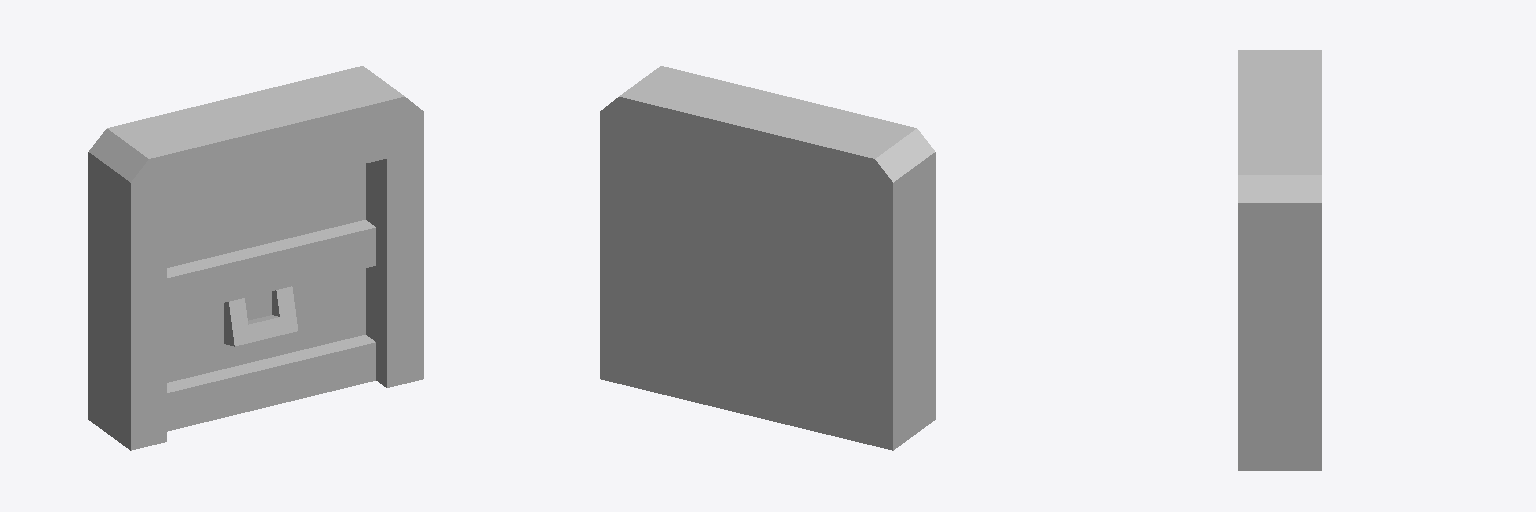
File: gate.obj
The picture shows the model from 3 angles: view 1: azimuth 30°, elevation 25°; view 2: azimuth 150°, elevation 25°; view 3: azimuth 270°, elevation 25°; orthographic projection.
Visible parts, largest first — view 1: door; view 2: door; view 3: door.
Part boxes in pixels (x1,y1,x2,y2): door: (88,66,423,450); door: (600,66,935,450); door: (1238,50,1321,470).
Bounding box in the file's own units: 0.8 × 0.75 × 0.2.